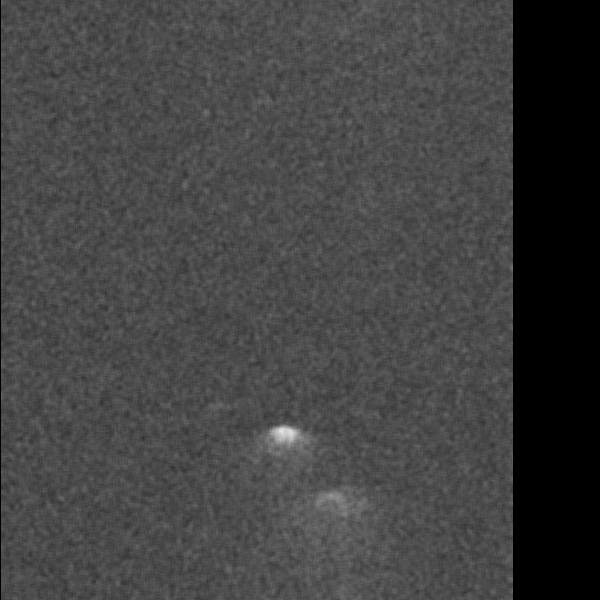spark: (266, 134, 320, 212), (303, 39, 347, 92)
